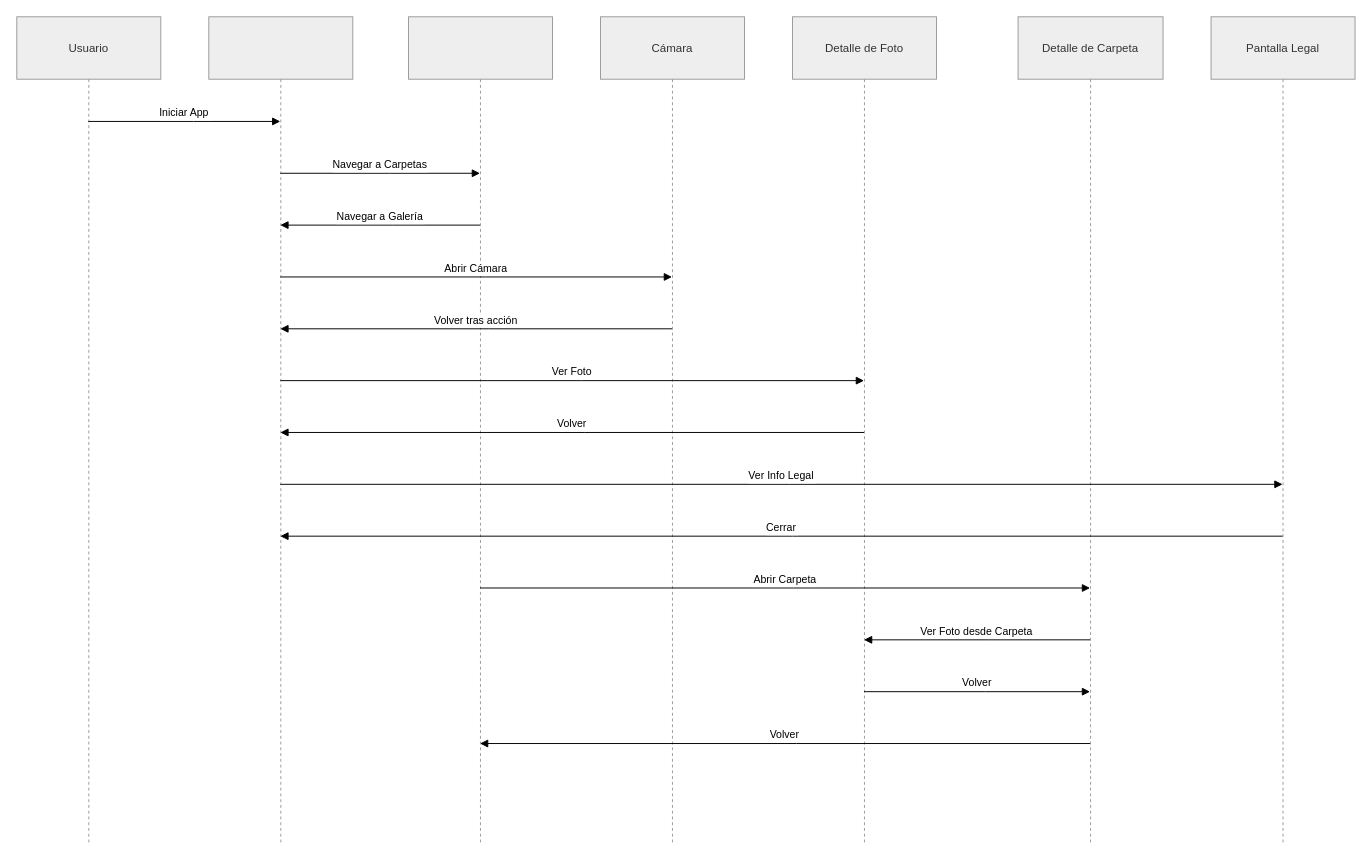
The diagram is 1372 pixels wide and 861 high, and some of its shapes have lost their labels. Each missing label, with the box of its shape:
Galería Principal: (208, 16, 353, 844)
Lista de Carpetas: (408, 16, 552, 844)
